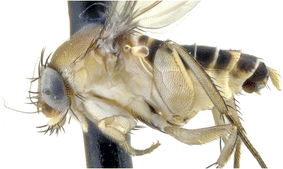phorid fly: (10, 4, 273, 169)
